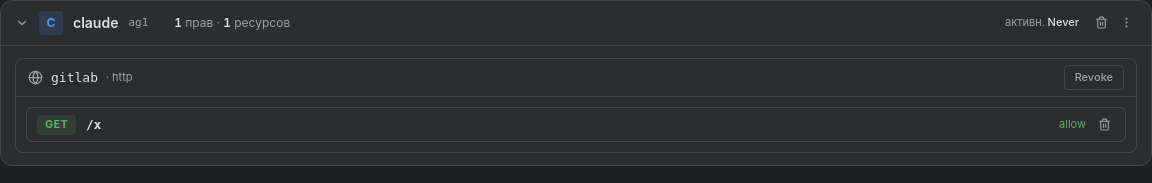
Scenario: <AgentCard> › toggles collapse when the header body is clicked
The width and height of the screenshot is (1152, 183).
Expected: the text "gitlab" is shown, [51,69,98,87]
Click the text "claude": (96, 23) [73,13,118,33]
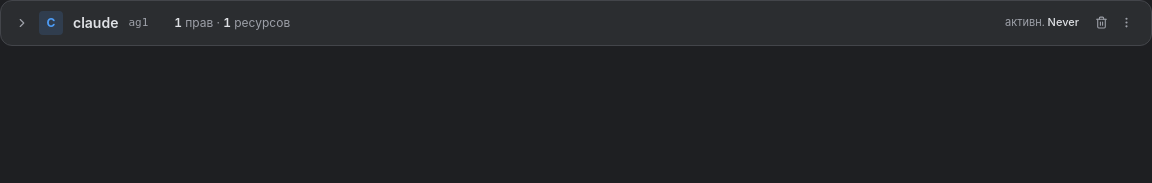
Expected: the text "gitlab" is gone
